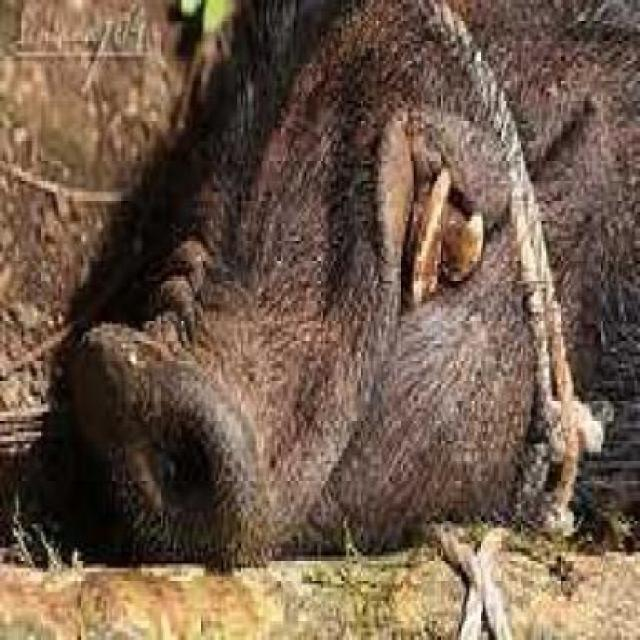pig: (83, 0, 639, 638)
